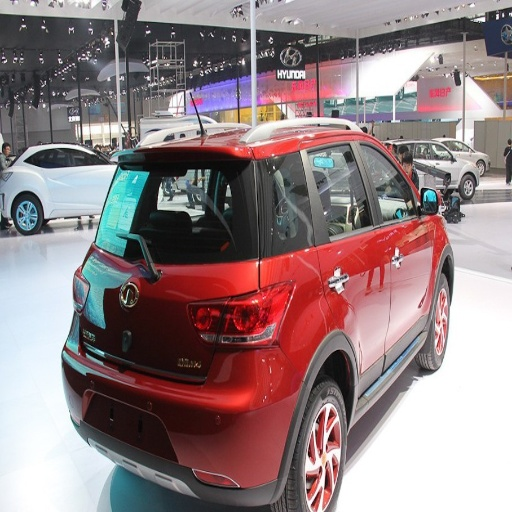back_bumper: (64, 338, 310, 509)
back_right_door: (280, 137, 391, 388)
trunk: (86, 236, 258, 380)
